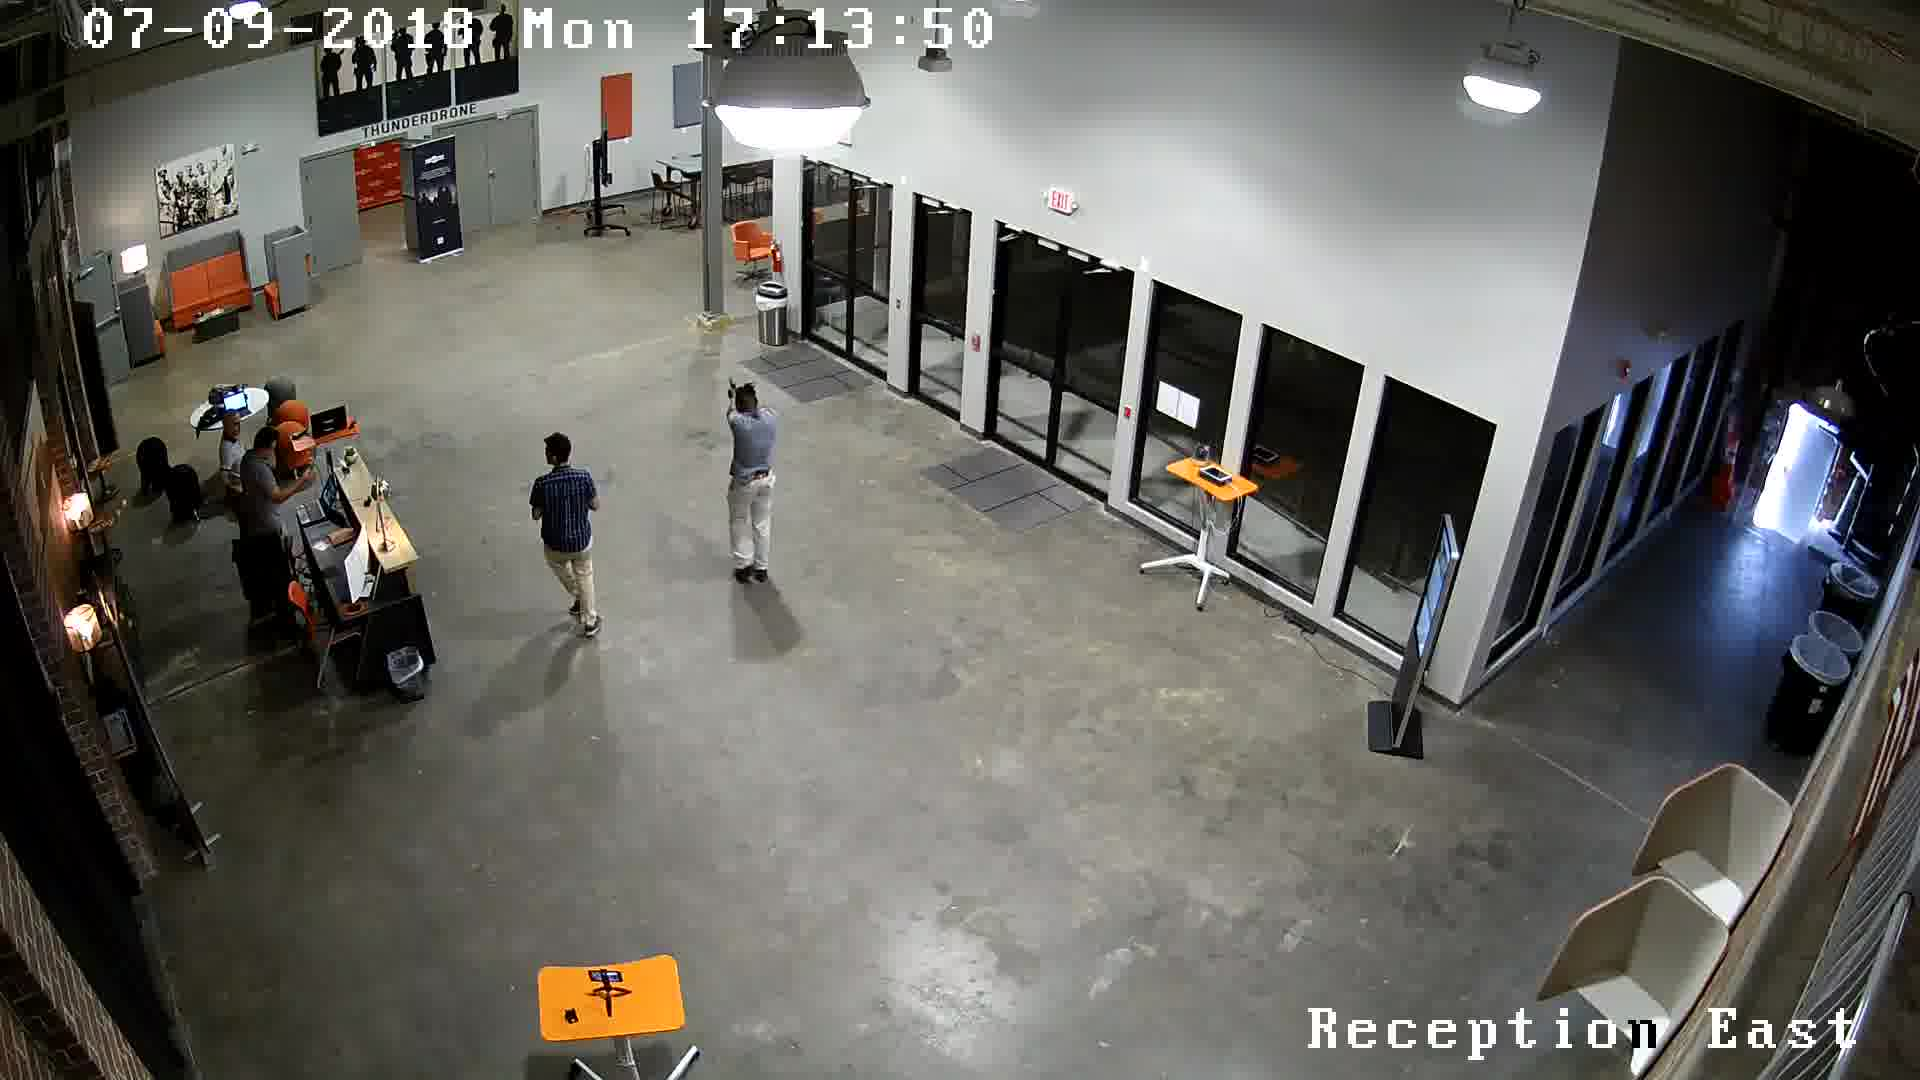pistol: (712, 373, 744, 406)
